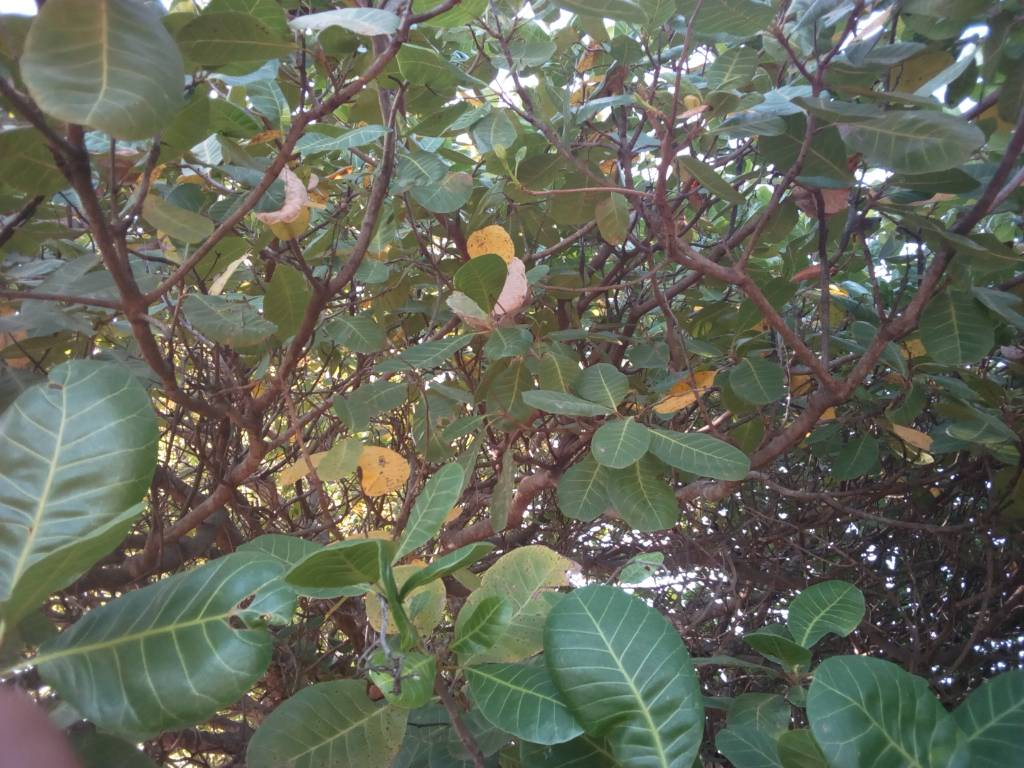Helopeltis anacardii: (550, 597, 706, 768), (286, 535, 395, 601)
